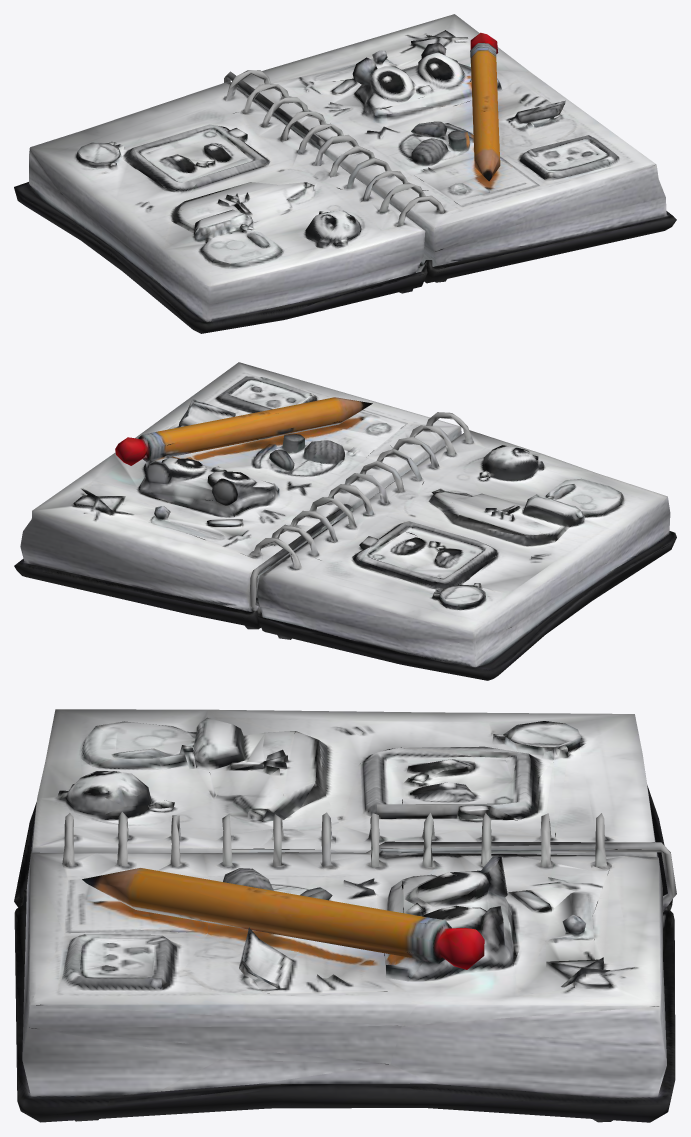
Rendered from sketchbook.glb.
3 views of the same model, one above another, from view 1: azimuth 30°, elevation 25°; view 2: azimuth 150°, elevation 25°; view 3: azimuth 270°, elevation 25° (orthographic). The views are drawn at different scales.
Visible parts, largest first — view 1: low; view 2: low; view 3: low.
Boxes of the visible parts, bbox=[...] form: low: bbox=[14, 14, 676, 333]; low: bbox=[14, 362, 676, 680]; low: bbox=[14, 709, 676, 1122].
Bounding box in the file's own units: 0.9789 × 0.2259 × 0.7748.
Materials: 1 (1 with a texture image).
